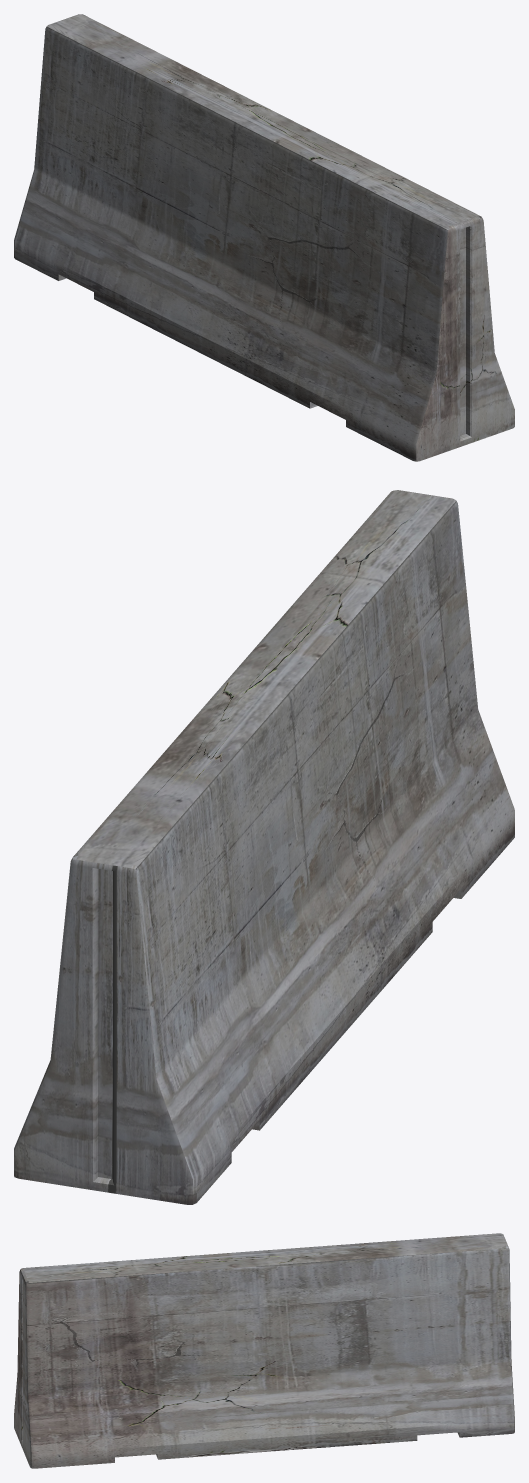
Rendered from City_Barricade007.fbx.
3 views of the same model, one above another, from view 1: azimuth 30°, elevation 25°; view 2: azimuth 150°, elevation 25°; view 3: azimuth 270°, elevation 25° (orthographic). The views are drawn at different scales.
Parts seen in each view (by area): view 1: City_Barricade_007:Barricade_007; view 2: City_Barricade_007:Barricade_007; view 3: City_Barricade_007:Barricade_007.
Part boxes in pixels (x1,y1,x2,y2): City_Barricade_007:Barricade_007: [14, 14, 514, 461]; City_Barricade_007:Barricade_007: [14, 490, 514, 1204]; City_Barricade_007:Barricade_007: [14, 1233, 514, 1468].
Size of the model in its own units: 111 by 115 by 303.
Materials: 1 (1 with a texture image).
